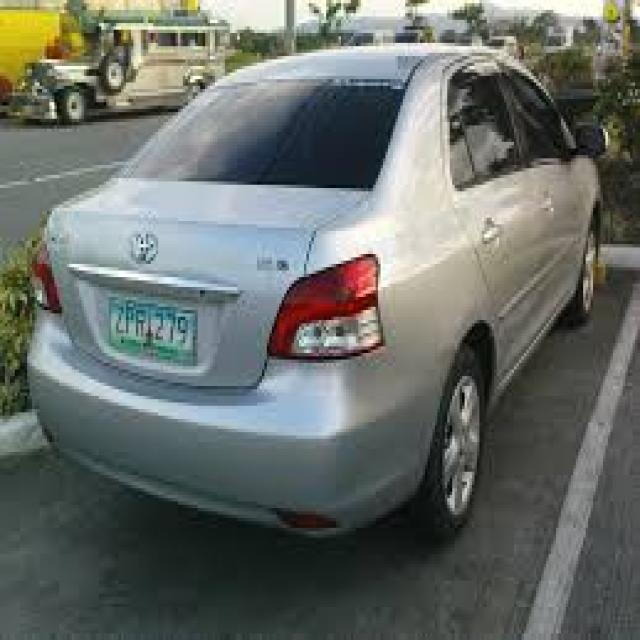ToyotaVios: (25, 40, 606, 541)
